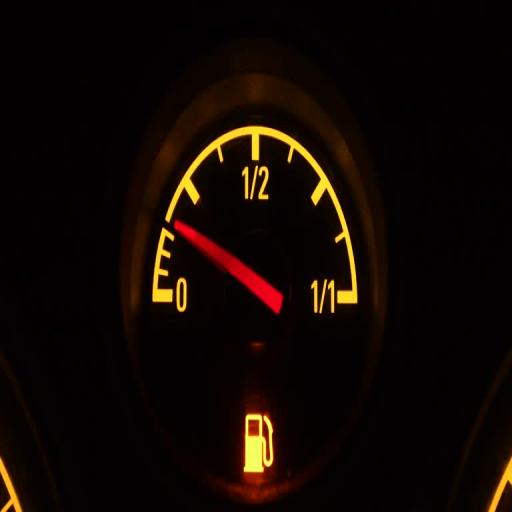empty: (173, 275, 189, 316)
fuel_icon: (240, 397, 277, 486)
full: (308, 275, 337, 319)
guage_area: (124, 50, 370, 501)
needle_center: (234, 254, 298, 361)
needle_tip: (170, 214, 192, 242)
